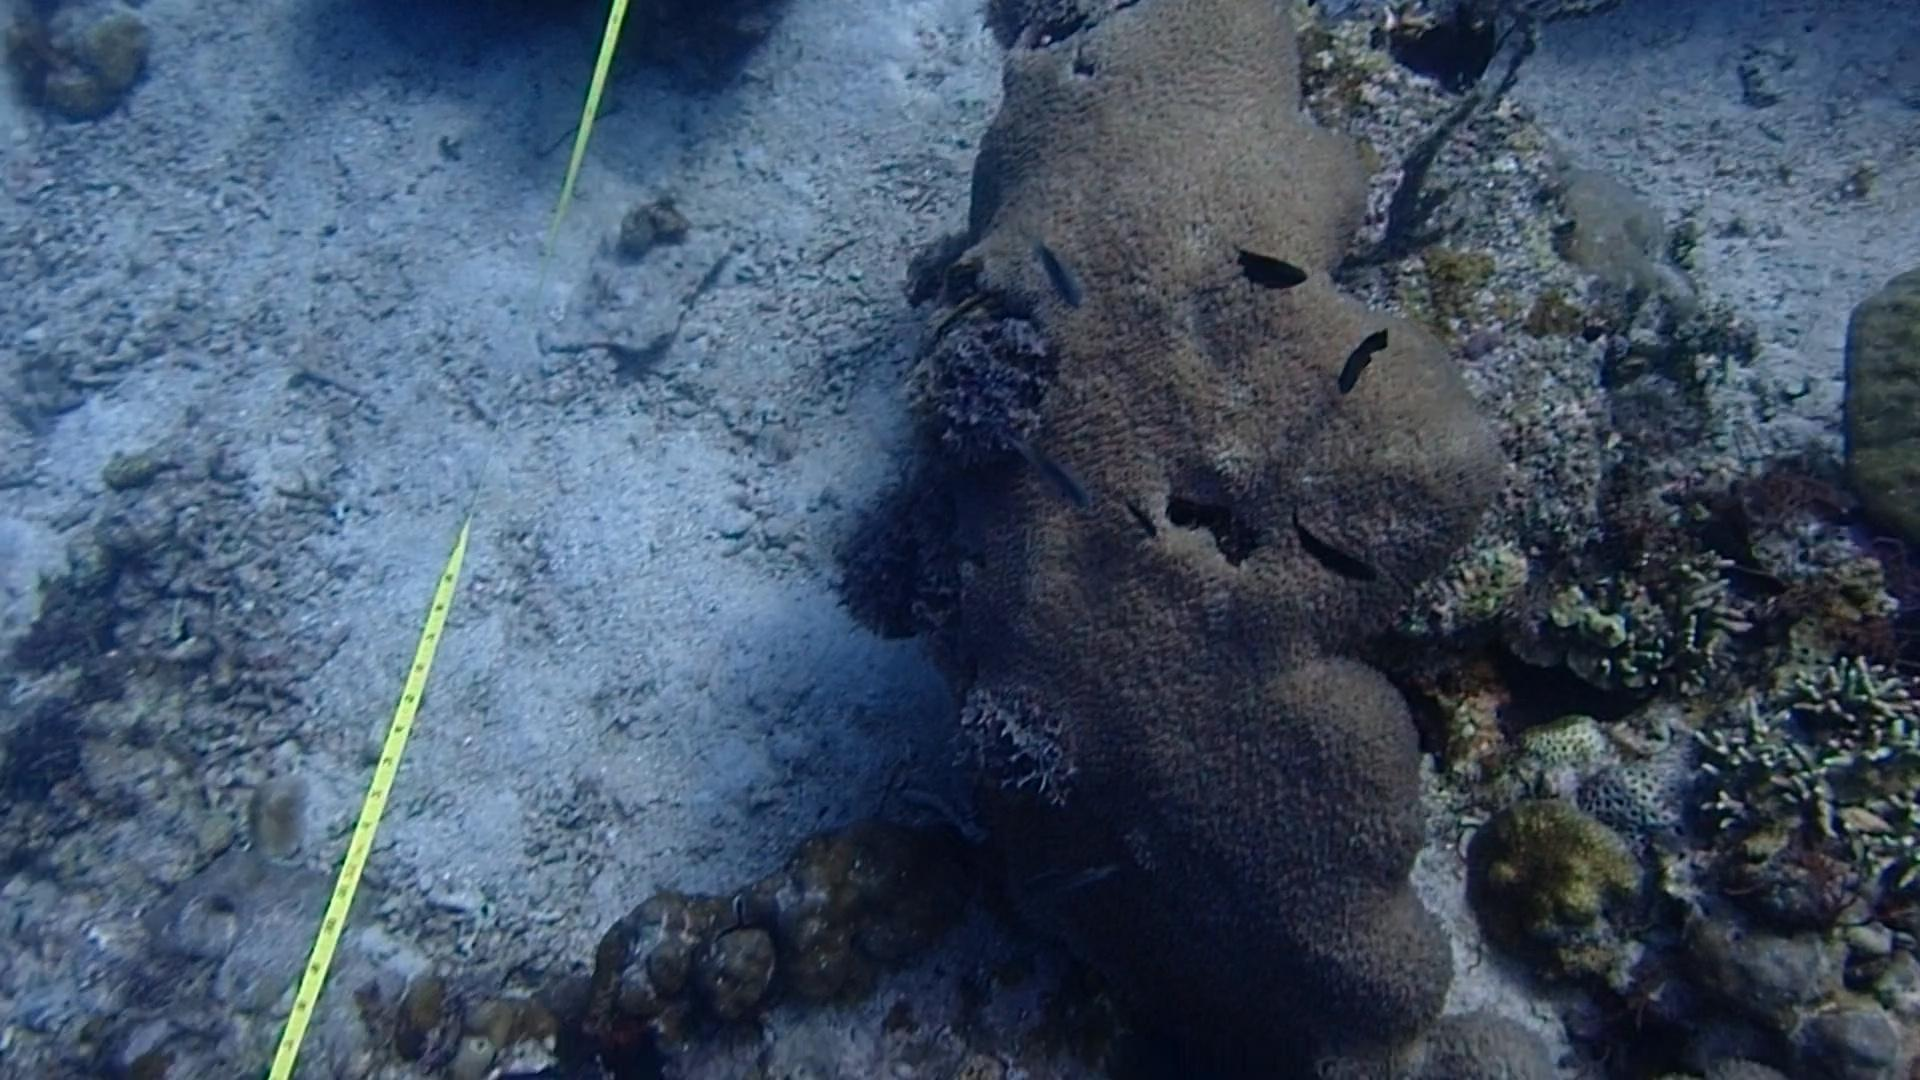Dark Fish: (1282, 502, 1386, 595), (1321, 320, 1398, 397), (1226, 244, 1319, 298), (1124, 491, 1159, 543)
Light Fish: (1000, 423, 1101, 513), (1011, 852, 1131, 920), (1025, 236, 1104, 310)
